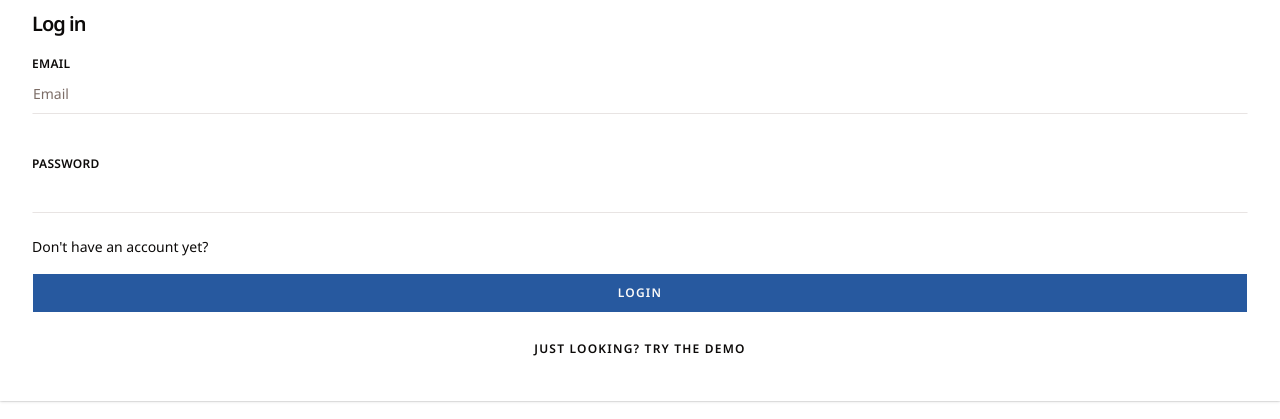
Test: LoginForm › attaches server validation errors to their fields
Type "ada@example.com" into the field with placeholder "Email". click: (640, 94)
box: 32,74 -> 1248,114
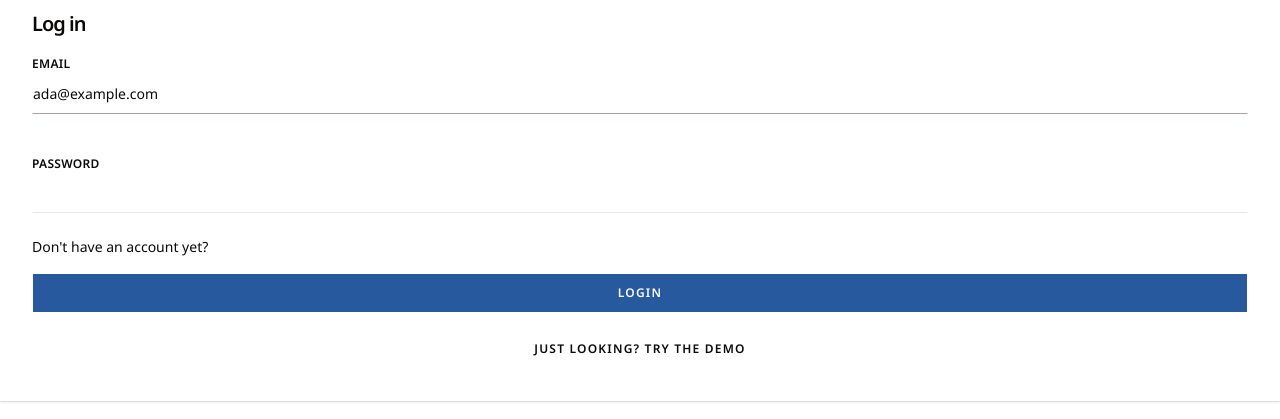
Type "Passw0rdTest" into the password field. click: (640, 193)
box: 32,173 -> 1248,213
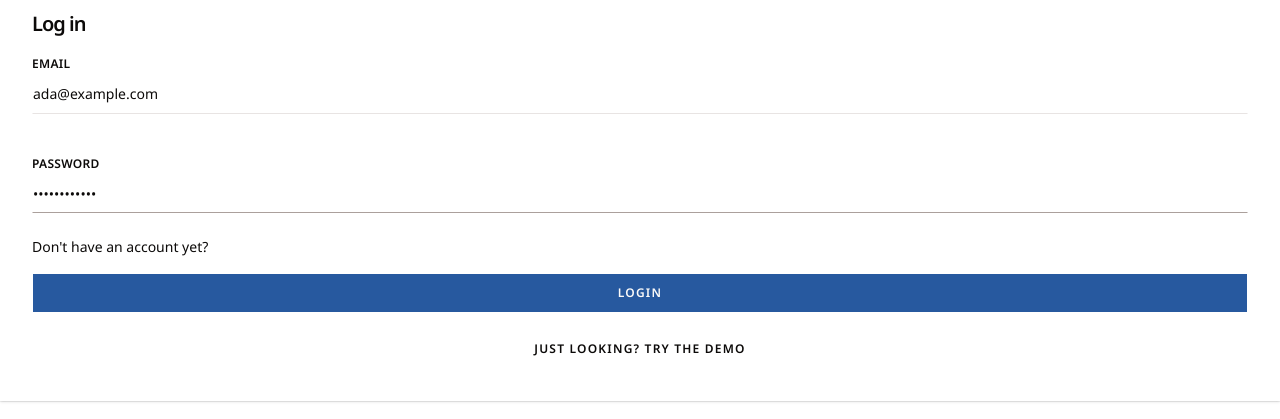
Click the button "Login". click: (640, 293)
box: 32,273 -> 1248,313
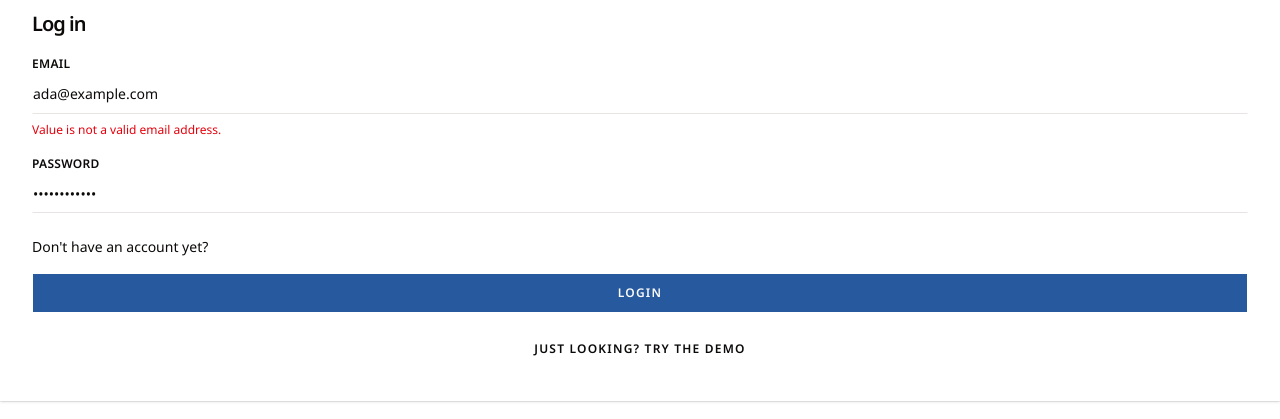
Expected: the text "Value is not a valid email address." is shown, 32,120 -> 221,138
